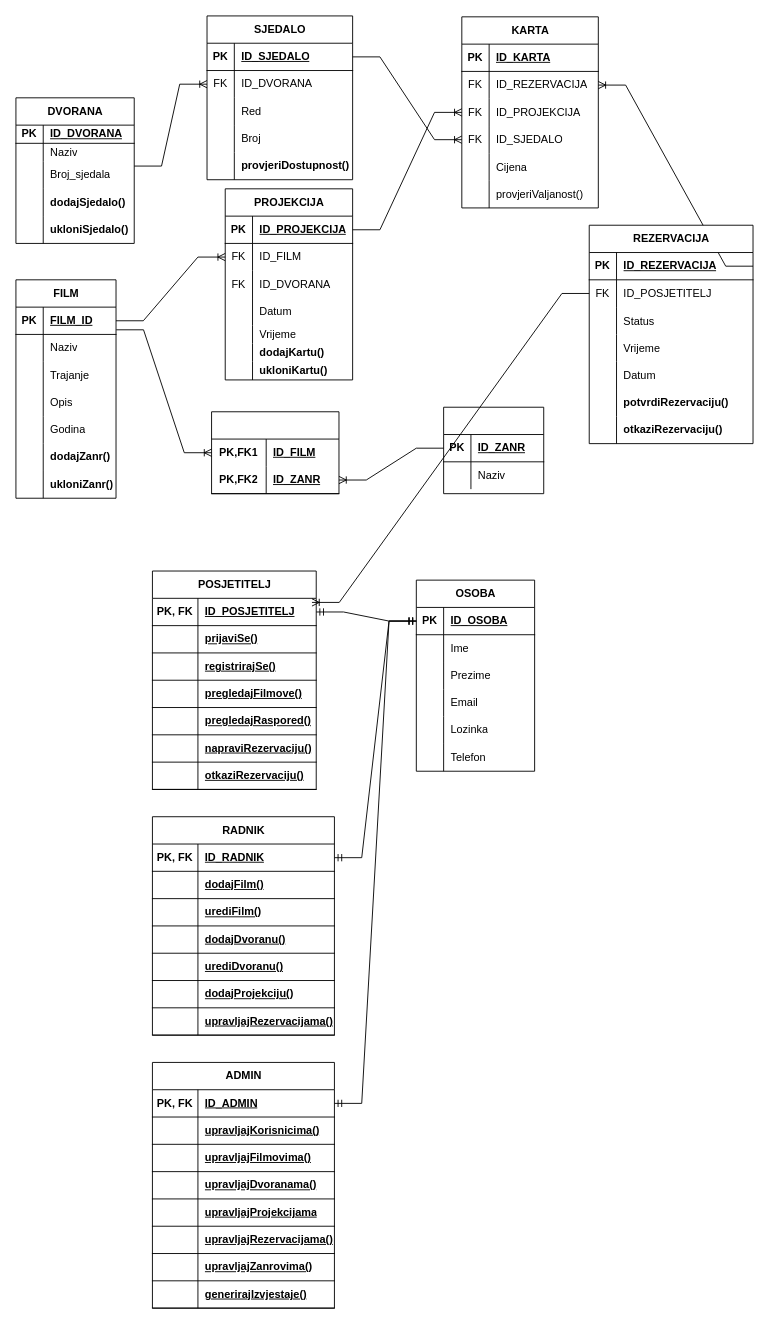
The diagram is 776 pixels wide and 1324 high, and some of its shapes have lost their labels. The box of each missing label's shape, as (x1, y1, x2, y2) in pixels:
FILM_ŽANR: (211, 411, 339, 494)
ŽANR: (443, 406, 544, 494)
